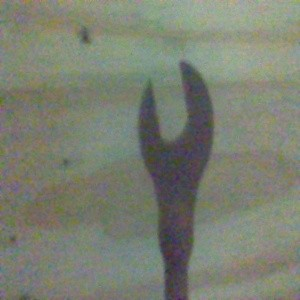spanner: (137, 60, 216, 300)
